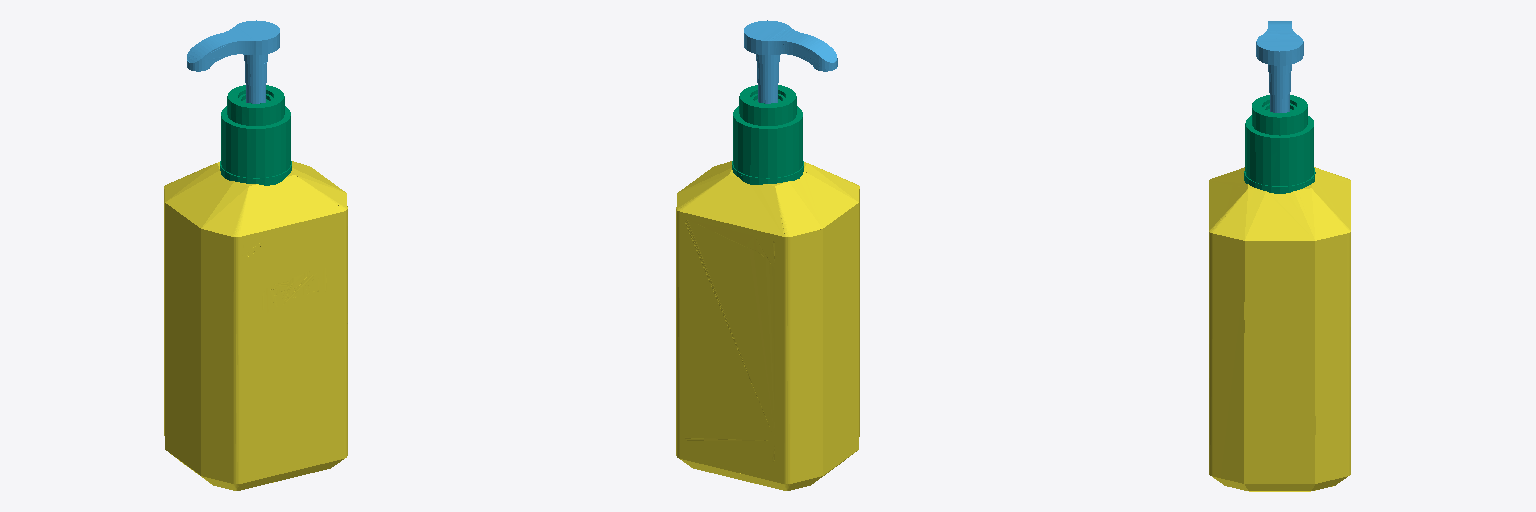
URDF robot description (partnet_ub630f30d-bc91-4666-bca8-7cff40a9acf5):
<?xml version="1.0" ?>
<robot name="partnet_ub630f30d-bc91-4666-bca8-7cff40a9acf5">
	<link name="base"/>
	<link name="link_0">
		<visual name="pressing_lid-1">
			<origin xyz="-0.0038539635159369253 0 0.004583556322369866"/>
			<geometry>
				<mesh filename="textured_objs/original_23.obj"/>
			</geometry>
		</visual>
		<visual name="pressing_lid-1">
			<origin xyz="-0.0038539635159369253 0 0.004583556322369866"/>
			<geometry>
				<mesh filename="textured_objs/original_21.obj"/>
			</geometry>
		</visual>
		<visual name="pressing_lid-1">
			<origin xyz="-0.0038539635159369253 0 0.004583556322369866"/>
			<geometry>
				<mesh filename="textured_objs/original_22.obj"/>
			</geometry>
		</visual>
		<visual name="pressing_lid-1">
			<origin xyz="-0.0038539635159369253 0 0.004583556322369866"/>
			<geometry>
				<mesh filename="textured_objs/original_27.obj"/>
			</geometry>
		</visual>
		<visual name="pressing_lid-1">
			<origin xyz="-0.0038539635159369253 0 0.004583556322369866"/>
			<geometry>
				<mesh filename="textured_objs/original_26.obj"/>
			</geometry>
		</visual>
		<visual name="pressing_lid-1">
			<origin xyz="-0.0038539635159369253 0 0.004583556322369866"/>
			<geometry>
				<mesh filename="textured_objs/original_24.obj"/>
			</geometry>
		</visual>
		<collision>
			<origin xyz="-0.0038539635159369253 0 0.004583556322369866"/>
			<geometry>
				<mesh filename="textured_objs/original_23.obj"/>
			</geometry>
		</collision>
		<collision>
			<origin xyz="-0.0038539635159369253 0 0.004583556322369866"/>
			<geometry>
				<mesh filename="textured_objs/original_21.obj"/>
			</geometry>
		</collision>
		<collision>
			<origin xyz="-0.0038539635159369253 0 0.004583556322369866"/>
			<geometry>
				<mesh filename="textured_objs/original_22.obj"/>
			</geometry>
		</collision>
		<collision>
			<origin xyz="-0.0038539635159369253 0 0.004583556322369866"/>
			<geometry>
				<mesh filename="textured_objs/original_27.obj"/>
			</geometry>
		</collision>
		<collision>
			<origin xyz="-0.0038539635159369253 0 0.004583556322369866"/>
			<geometry>
				<mesh filename="textured_objs/original_26.obj"/>
			</geometry>
		</collision>
		<collision>
			<origin xyz="-0.0038539635159369253 0 0.004583556322369866"/>
			<geometry>
				<mesh filename="textured_objs/original_24.obj"/>
			</geometry>
		</collision>
	</link>
	<joint name="joint_0" type="continuous">
		<origin xyz="0.0 0 0.0"/>
		<axis xyz="0 1 0"/>
		<child link="link_0"/>
		<parent link="link_0_helper"/>
	</joint>
	<link name="link_1">
		<visual name="head-3">
			<origin xyz="-0.0035210000000000102 0 0.0047255000000000075"/>
			<geometry>
				<mesh filename="textured_objs/original_10.obj"/>
			</geometry>
		</visual>
		<visual name="head-3">
			<origin xyz="-0.0035210000000000102 0 0.0047255000000000075"/>
			<geometry>
				<mesh filename="textured_objs/original_11.obj"/>
			</geometry>
		</visual>
		<visual name="head-3">
			<origin xyz="-0.0035210000000000102 0 0.0047255000000000075"/>
			<geometry>
				<mesh filename="textured_objs/original_8.obj"/>
			</geometry>
		</visual>
		<visual name="head-3">
			<origin xyz="-0.0035210000000000102 0 0.0047255000000000075"/>
			<geometry>
				<mesh filename="textured_objs/original_5.obj"/>
			</geometry>
		</visual>
		<visual name="head-3">
			<origin xyz="-0.0035210000000000102 0 0.0047255000000000075"/>
			<geometry>
				<mesh filename="textured_objs/original_6.obj"/>
			</geometry>
		</visual>
		<visual name="head-3">
			<origin xyz="-0.0035210000000000102 0 0.0047255000000000075"/>
			<geometry>
				<mesh filename="textured_objs/original_7.obj"/>
			</geometry>
		</visual>
		<visual name="head-3">
			<origin xyz="-0.0035210000000000102 0 0.0047255000000000075"/>
			<geometry>
				<mesh filename="textured_objs/original_12.obj"/>
			</geometry>
		</visual>
		<visual name="head-3">
			<origin xyz="-0.0035210000000000102 0 0.0047255000000000075"/>
			<geometry>
				<mesh filename="textured_objs/original_14.obj"/>
			</geometry>
		</visual>
		<visual name="head-3">
			<origin xyz="-0.0035210000000000102 0 0.0047255000000000075"/>
			<geometry>
				<mesh filename="textured_objs/original_13.obj"/>
			</geometry>
		</visual>
		<collision>
			<origin xyz="-0.0035210000000000102 0 0.0047255000000000075"/>
			<geometry>
				<mesh filename="textured_objs/original_10.obj"/>
			</geometry>
		</collision>
		<collision>
			<origin xyz="-0.0035210000000000102 0 0.0047255000000000075"/>
			<geometry>
				<mesh filename="textured_objs/original_11.obj"/>
			</geometry>
		</collision>
		<collision>
			<origin xyz="-0.0035210000000000102 0 0.0047255000000000075"/>
			<geometry>
				<mesh filename="textured_objs/original_8.obj"/>
			</geometry>
		</collision>
		<collision>
			<origin xyz="-0.0035210000000000102 0 0.0047255000000000075"/>
			<geometry>
				<mesh filename="textured_objs/original_5.obj"/>
			</geometry>
		</collision>
		<collision>
			<origin xyz="-0.0035210000000000102 0 0.0047255000000000075"/>
			<geometry>
				<mesh filename="textured_objs/original_6.obj"/>
			</geometry>
		</collision>
		<collision>
			<origin xyz="-0.0035210000000000102 0 0.0047255000000000075"/>
			<geometry>
				<mesh filename="textured_objs/original_7.obj"/>
			</geometry>
		</collision>
		<collision>
			<origin xyz="-0.0035210000000000102 0 0.0047255000000000075"/>
			<geometry>
				<mesh filename="textured_objs/original_12.obj"/>
			</geometry>
		</collision>
		<collision>
			<origin xyz="-0.0035210000000000102 0 0.0047255000000000075"/>
			<geometry>
				<mesh filename="textured_objs/original_14.obj"/>
			</geometry>
		</collision>
		<collision>
			<origin xyz="-0.0035210000000000102 0 0.0047255000000000075"/>
			<geometry>
				<mesh filename="textured_objs/original_13.obj"/>
			</geometry>
		</collision>
	</link>
	<joint name="joint_1" type="continuous">
		<origin xyz="0.0 0 0.0"/>
		<axis xyz="0 1 0"/>
		<child link="link_1"/>
		<parent link="link_1_helper"/>
	</joint>
	<link name="link_2">
		<visual name="base_body-5">
			<origin xyz="0 0 0"/>
			<geometry>
				<mesh filename="textured_objs/original_30.obj"/>
			</geometry>
		</visual>
		<visual name="base_body-5">
			<origin xyz="0 0 0"/>
			<geometry>
				<mesh filename="textured_objs/original_36.obj"/>
			</geometry>
		</visual>
		<visual name="base_body-5">
			<origin xyz="0 0 0"/>
			<geometry>
				<mesh filename="textured_objs/original_41.obj"/>
			</geometry>
		</visual>
		<visual name="base_body-5">
			<origin xyz="0 0 0"/>
			<geometry>
				<mesh filename="textured_objs/original_43.obj"/>
			</geometry>
		</visual>
		<visual name="base_body-5">
			<origin xyz="0 0 0"/>
			<geometry>
				<mesh filename="textured_objs/original_52.obj"/>
			</geometry>
		</visual>
		<visual name="base_body-5">
			<origin xyz="0 0 0"/>
			<geometry>
				<mesh filename="textured_objs/original_3.obj"/>
			</geometry>
		</visual>
		<visual name="base_body-5">
			<origin xyz="0 0 0"/>
			<geometry>
				<mesh filename="textured_objs/original_2.obj"/>
			</geometry>
		</visual>
		<visual name="base_body-5">
			<origin xyz="0 0 0"/>
			<geometry>
				<mesh filename="textured_objs/original_16.obj"/>
			</geometry>
		</visual>
		<visual name="base_body-5">
			<origin xyz="0 0 0"/>
			<geometry>
				<mesh filename="textured_objs/original_45.obj"/>
			</geometry>
		</visual>
		<visual name="base_body-5">
			<origin xyz="0 0 0"/>
			<geometry>
				<mesh filename="textured_objs/original_35.obj"/>
			</geometry>
		</visual>
		<visual name="base_body-5">
			<origin xyz="0 0 0"/>
			<geometry>
				<mesh filename="textured_objs/original_49.obj"/>
			</geometry>
		</visual>
		<visual name="base_body-5">
			<origin xyz="0 0 0"/>
			<geometry>
				<mesh filename="textured_objs/original_39.obj"/>
			</geometry>
		</visual>
		<visual name="base_body-5">
			<origin xyz="0 0 0"/>
			<geometry>
				<mesh filename="textured_objs/original_51.obj"/>
			</geometry>
		</visual>
		<visual name="base_body-5">
			<origin xyz="0 0 0"/>
			<geometry>
				<mesh filename="textured_objs/original_50.obj"/>
			</geometry>
		</visual>
		<visual name="base_body-5">
			<origin xyz="0 0 0"/>
			<geometry>
				<mesh filename="textured_objs/original_31.obj"/>
			</geometry>
		</visual>
		<visual name="base_body-5">
			<origin xyz="0 0 0"/>
			<geometry>
				<mesh filename="textured_objs/original_37.obj"/>
			</geometry>
		</visual>
		<visual name="base_body-5">
			<origin xyz="0 0 0"/>
			<geometry>
				<mesh filename="textured_objs/original_38.obj"/>
			</geometry>
		</visual>
		<visual name="base_body-5">
			<origin xyz="0 0 0"/>
			<geometry>
				<mesh filename="textured_objs/original_34.obj"/>
			</geometry>
		</visual>
		<visual name="base_body-5">
			<origin xyz="0 0 0"/>
			<geometry>
				<mesh filename="textured_objs/original_18.obj"/>
			</geometry>
		</visual>
		<visual name="base_body-5">
			<origin xyz="0 0 0"/>
			<geometry>
				<mesh filename="textured_objs/original_17.obj"/>
			</geometry>
		</visual>
		<visual name="base_body-5">
			<origin xyz="0 0 0"/>
			<geometry>
				<mesh filename="textured_objs/original_20.obj"/>
			</geometry>
		</visual>
		<visual name="base_body-5">
			<origin xyz="0 0 0"/>
			<geometry>
				<mesh filename="textured_objs/original_32.obj"/>
			</geometry>
		</visual>
		<visual name="base_body-5">
			<origin xyz="0 0 0"/>
			<geometry>
				<mesh filename="textured_objs/original_47.obj"/>
			</geometry>
		</visual>
		<visual name="base_body-5">
			<origin xyz="0 0 0"/>
			<geometry>
				<mesh filename="textured_objs/original_19.obj"/>
			</geometry>
		</visual>
		<visual name="base_body-5">
			<origin xyz="0 0 0"/>
			<geometry>
				<mesh filename="textured_objs/original_40.obj"/>
			</geometry>
		</visual>
		<visual name="base_body-5">
			<origin xyz="0 0 0"/>
			<geometry>
				<mesh filename="textured_objs/original_46.obj"/>
			</geometry>
		</visual>
		<collision>
			<origin xyz="0 0 0"/>
			<geometry>
				<mesh filename="textured_objs/original_30.obj"/>
			</geometry>
		</collision>
		<collision>
			<origin xyz="0 0 0"/>
			<geometry>
				<mesh filename="textured_objs/original_36.obj"/>
			</geometry>
		</collision>
		<collision>
			<origin xyz="0 0 0"/>
			<geometry>
				<mesh filename="textured_objs/original_41.obj"/>
			</geometry>
		</collision>
		<collision>
			<origin xyz="0 0 0"/>
			<geometry>
				<mesh filename="textured_objs/original_43.obj"/>
			</geometry>
		</collision>
		<collision>
			<origin xyz="0 0 0"/>
			<geometry>
				<mesh filename="textured_objs/original_52.obj"/>
			</geometry>
		</collision>
		<collision>
			<origin xyz="0 0 0"/>
			<geometry>
				<mesh filename="textured_objs/original_3.obj"/>
			</geometry>
		</collision>
		<collision>
			<origin xyz="0 0 0"/>
			<geometry>
				<mesh filename="textured_objs/original_2.obj"/>
			</geometry>
		</collision>
		<collision>
			<origin xyz="0 0 0"/>
			<geometry>
				<mesh filename="textured_objs/original_16.obj"/>
			</geometry>
		</collision>
		<collision>
			<origin xyz="0 0 0"/>
			<geometry>
				<mesh filename="textured_objs/original_45.obj"/>
			</geometry>
		</collision>
		<collision>
			<origin xyz="0 0 0"/>
			<geometry>
				<mesh filename="textured_objs/original_35.obj"/>
			</geometry>
		</collision>
		<collision>
			<origin xyz="0 0 0"/>
			<geometry>
				<mesh filename="textured_objs/original_49.obj"/>
			</geometry>
		</collision>
		<collision>
			<origin xyz="0 0 0"/>
			<geometry>
				<mesh filename="textured_objs/original_39.obj"/>
			</geometry>
		</collision>
		<collision>
			<origin xyz="0 0 0"/>
			<geometry>
				<mesh filename="textured_objs/original_51.obj"/>
			</geometry>
		</collision>
		<collision>
			<origin xyz="0 0 0"/>
			<geometry>
				<mesh filename="textured_objs/original_50.obj"/>
			</geometry>
		</collision>
		<collision>
			<origin xyz="0 0 0"/>
			<geometry>
				<mesh filename="textured_objs/original_31.obj"/>
			</geometry>
		</collision>
		<collision>
			<origin xyz="0 0 0"/>
			<geometry>
				<mesh filename="textured_objs/original_37.obj"/>
			</geometry>
		</collision>
		<collision>
			<origin xyz="0 0 0"/>
			<geometry>
				<mesh filename="textured_objs/original_38.obj"/>
			</geometry>
		</collision>
		<collision>
			<origin xyz="0 0 0"/>
			<geometry>
				<mesh filename="textured_objs/original_34.obj"/>
			</geometry>
		</collision>
		<collision>
			<origin xyz="0 0 0"/>
			<geometry>
				<mesh filename="textured_objs/original_18.obj"/>
			</geometry>
		</collision>
		<collision>
			<origin xyz="0 0 0"/>
			<geometry>
				<mesh filename="textured_objs/original_17.obj"/>
			</geometry>
		</collision>
		<collision>
			<origin xyz="0 0 0"/>
			<geometry>
				<mesh filename="textured_objs/original_20.obj"/>
			</geometry>
		</collision>
		<collision>
			<origin xyz="0 0 0"/>
			<geometry>
				<mesh filename="textured_objs/original_32.obj"/>
			</geometry>
		</collision>
		<collision>
			<origin xyz="0 0 0"/>
			<geometry>
				<mesh filename="textured_objs/original_47.obj"/>
			</geometry>
		</collision>
		<collision>
			<origin xyz="0 0 0"/>
			<geometry>
				<mesh filename="textured_objs/original_19.obj"/>
			</geometry>
		</collision>
		<collision>
			<origin xyz="0 0 0"/>
			<geometry>
				<mesh filename="textured_objs/original_40.obj"/>
			</geometry>
		</collision>
		<collision>
			<origin xyz="0 0 0"/>
			<geometry>
				<mesh filename="textured_objs/original_46.obj"/>
			</geometry>
		</collision>
	</link>
	<joint name="joint_2" type="fixed">
		<origin rpy="1.570796326794897 0 -1.570796326794897" xyz="0 0 0"/>
		<child link="link_2"/>
		<parent link="base"/>
	</joint>
	<link name="link_0_helper">
		<inertial>
			<origin xyz="0 0 0"/>
			<mass value="1e-6"/>
			<inertia ixx="1e-10" ixy="0" ixz="0" iyy="1e-10" iyz="0" izz="1e-10"/>
		</inertial>
	</link>
	<joint name="joint_3" type="prismatic">
		<origin xyz="0.0003329635159369151 0 0.0001419436776301415"/>
		<axis xyz="0 -1 0"/>
		<child link="link_0_helper"/>
		<parent link="link_1"/>
		<limit lower="0" upper="0.19"/>
	</joint>
	<link name="link_1_helper">
		<inertial>
			<origin xyz="0 0 0"/>
			<mass value="1e-6"/>
			<inertia ixx="1e-10" ixy="0" ixz="0" iyy="1e-10" iyz="0" izz="1e-10"/>
		</inertial>
	</link>
	<joint name="joint_4" type="prismatic">
		<origin xyz="0.0035210000000000102 0 -0.0047255000000000075"/>
		<axis xyz="0 1 0"/>
		<child link="link_1_helper"/>
		<parent link="link_2"/>
		<limit lower="0" upper="0.1160000000000001"/>
	</joint>
</robot>

--- Facts derived from the render (not from the file) ---
Views: 3 orthographic renders of the robot side by side, from view 1: azimuth 30°, elevation 25°; view 2: azimuth 150°, elevation 25°; view 3: azimuth 270°, elevation 25°.
Model partnet_ub630f30d-bc91-4666-bca8-7cff40a9acf5 with 6 links and 5 joints (2 continuous, 2 prismatic, 1 fixed), rooted at base, posed every joint at zero.
Visible links, largest first — view 1: link_2, link_1, link_0; view 2: link_2, link_1, link_0; view 3: link_2, link_1, link_0.
Link boxes in pixels (box(x1,y1,x2,y2)): link_2: box(164, 161, 347, 490); link_1: box(220, 85, 291, 185); link_0: box(187, 20, 279, 103); link_2: box(676, 161, 859, 490); link_1: box(732, 85, 803, 184); link_0: box(744, 20, 837, 103); link_2: box(1209, 167, 1350, 491); link_1: box(1244, 95, 1315, 193); link_0: box(1256, 21, 1303, 112).
Size in the robot's own frame: 0.5911 by 0.5208 by 1.66 metres.
Meshes: 41 distinct files referenced, 41 mesh visuals loaded (41 OBJ).
